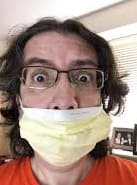with_incorrect_mask: (22, 37, 110, 166)
